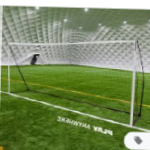goals: (4, 37, 146, 129)
